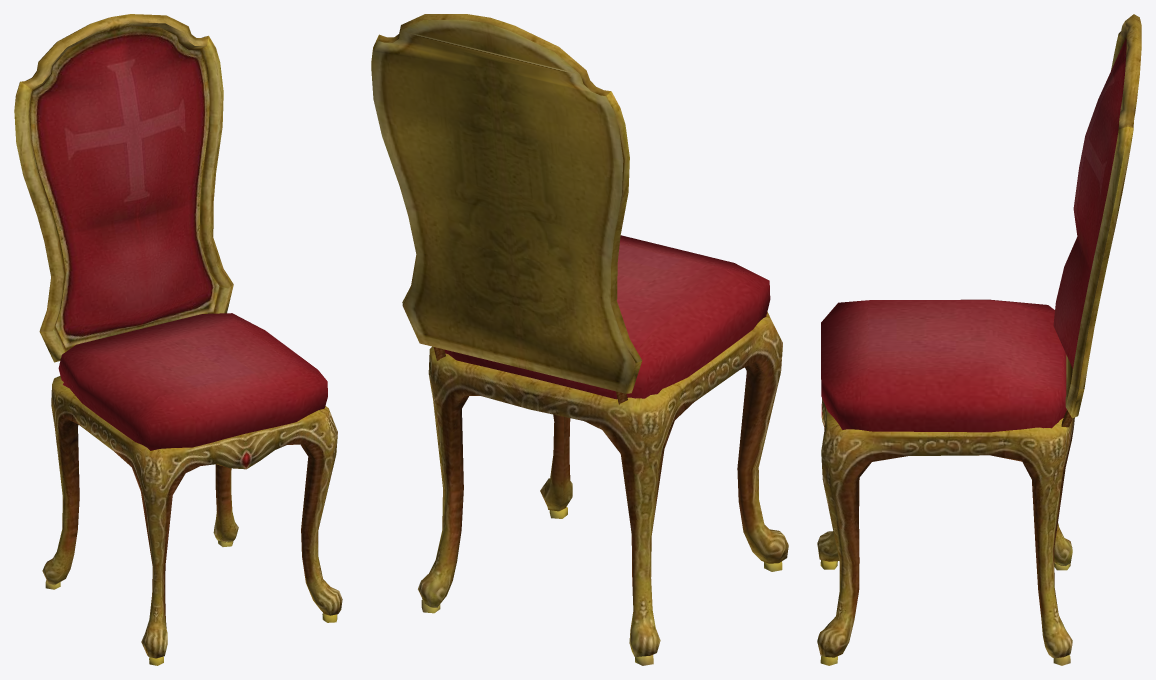
File: SM_chair_01.fbx
3 renders of one model, left to right at view 1: azimuth 30°, elevation 25°; view 2: azimuth 150°, elevation 25°; view 3: azimuth 270°, elevation 25°, orthographic. The views are drawn at different scales.
Parts seen in each view (by area): view 1: SM_chair_01; view 2: SM_chair_01; view 3: SM_chair_01.
Boxes of the visible parts, box(x1,y1,x2,y2) form: SM_chair_01: box(14, 14, 342, 665); SM_chair_01: box(371, 14, 788, 665); SM_chair_01: box(817, 14, 1141, 665).
Bounding box in the file's own units: 121 × 291 × 146.
